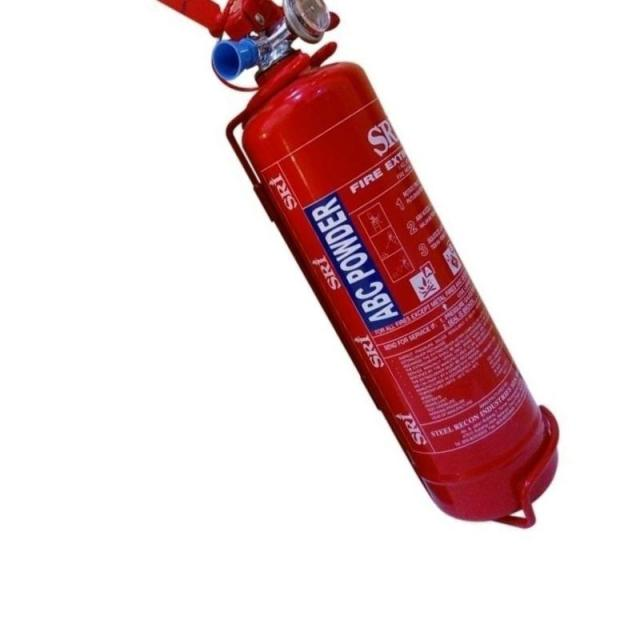fire_extinguisher: (143, 0, 562, 526)
